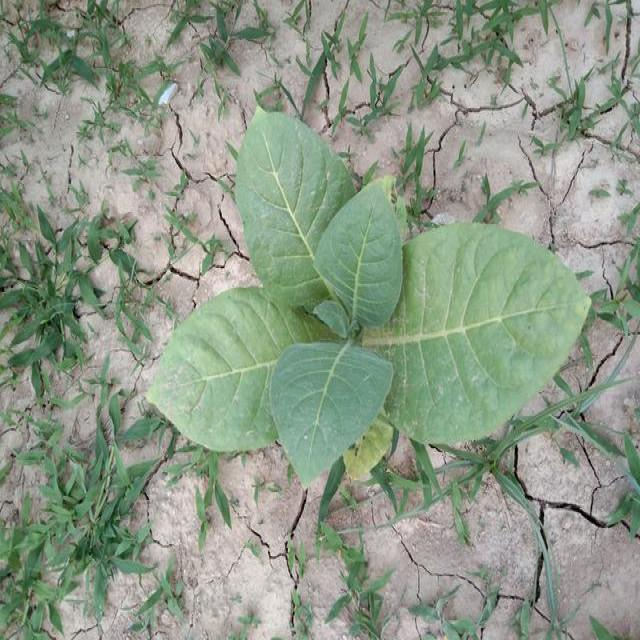crop: (132, 85, 601, 513)
